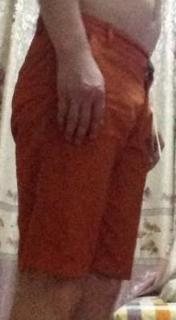shorts: (10, 10, 160, 280)
